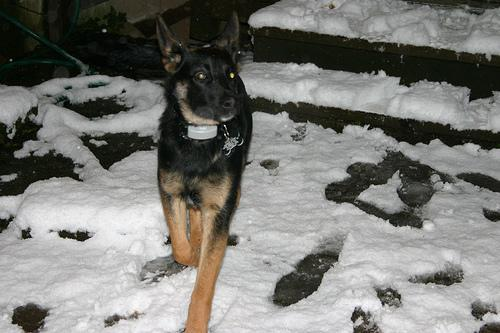German_shepherd: (156, 12, 254, 332)
